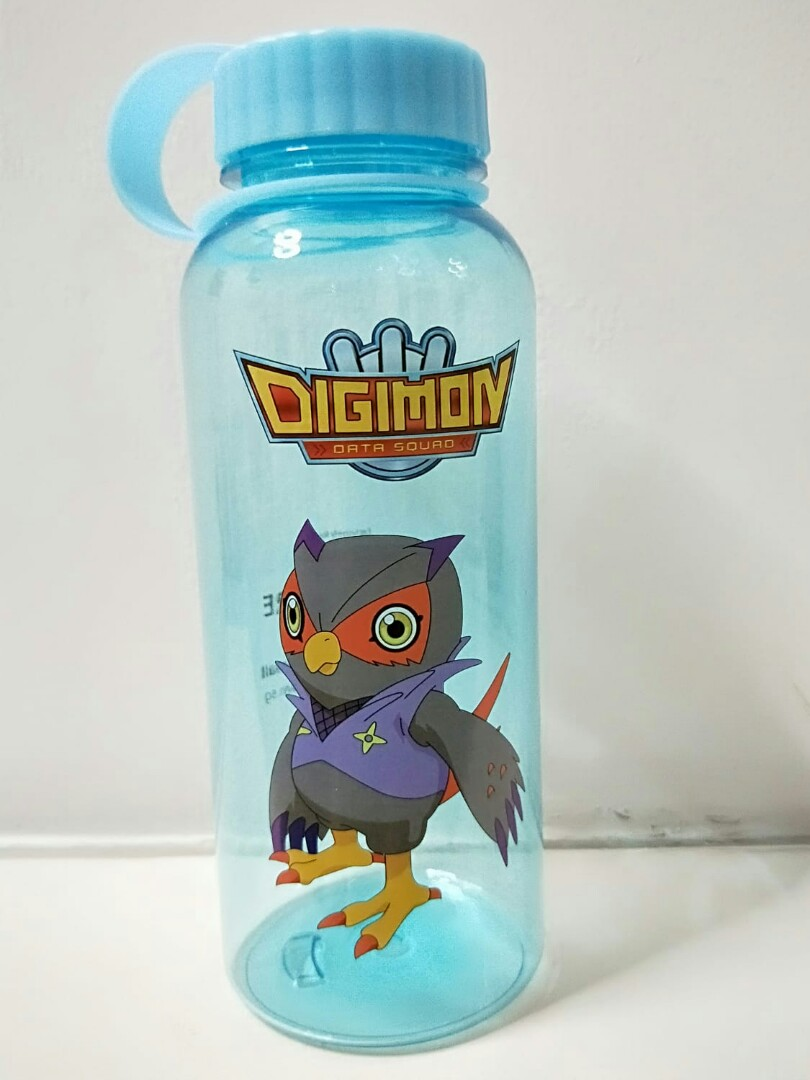bottle: (99, 15, 607, 1059)
